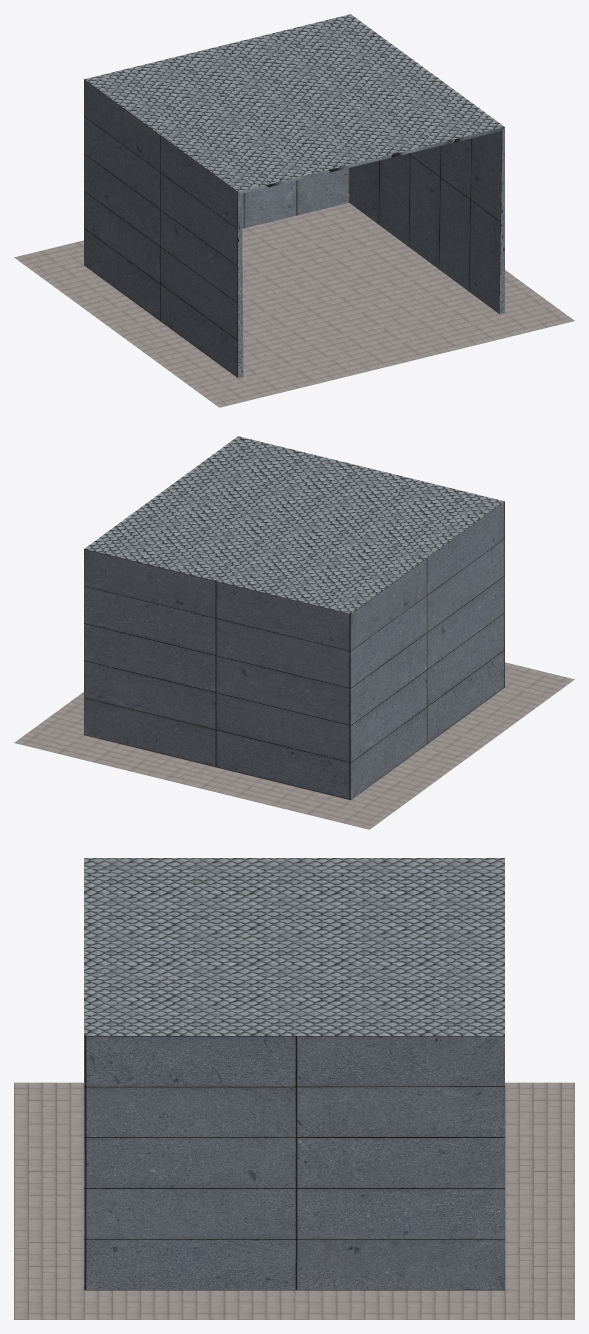
Rendered from arena.gltf.
3 renders of one model, top to bottom at view 1: azimuth 30°, elevation 25°; view 2: azimuth 150°, elevation 25°; view 3: azimuth 270°, elevation 25°, orthographic. The views are drawn at different scales.
Visible parts, largest first — view 1: Cube, Plane; view 2: Cube, Plane; view 3: Cube, Plane.
Part boxes in pixels (x1,y1,x2,y2): Cube: (84,14,504,377); Plane: (14,203,574,407); Cube: (84,436,504,799); Plane: (14,662,574,829); Cube: (84,858,504,1290); Plane: (14,1082,574,1319).
Size of the model in its own units: 40 by 20 by 40.
Materials: 3 (3 with a texture image).
